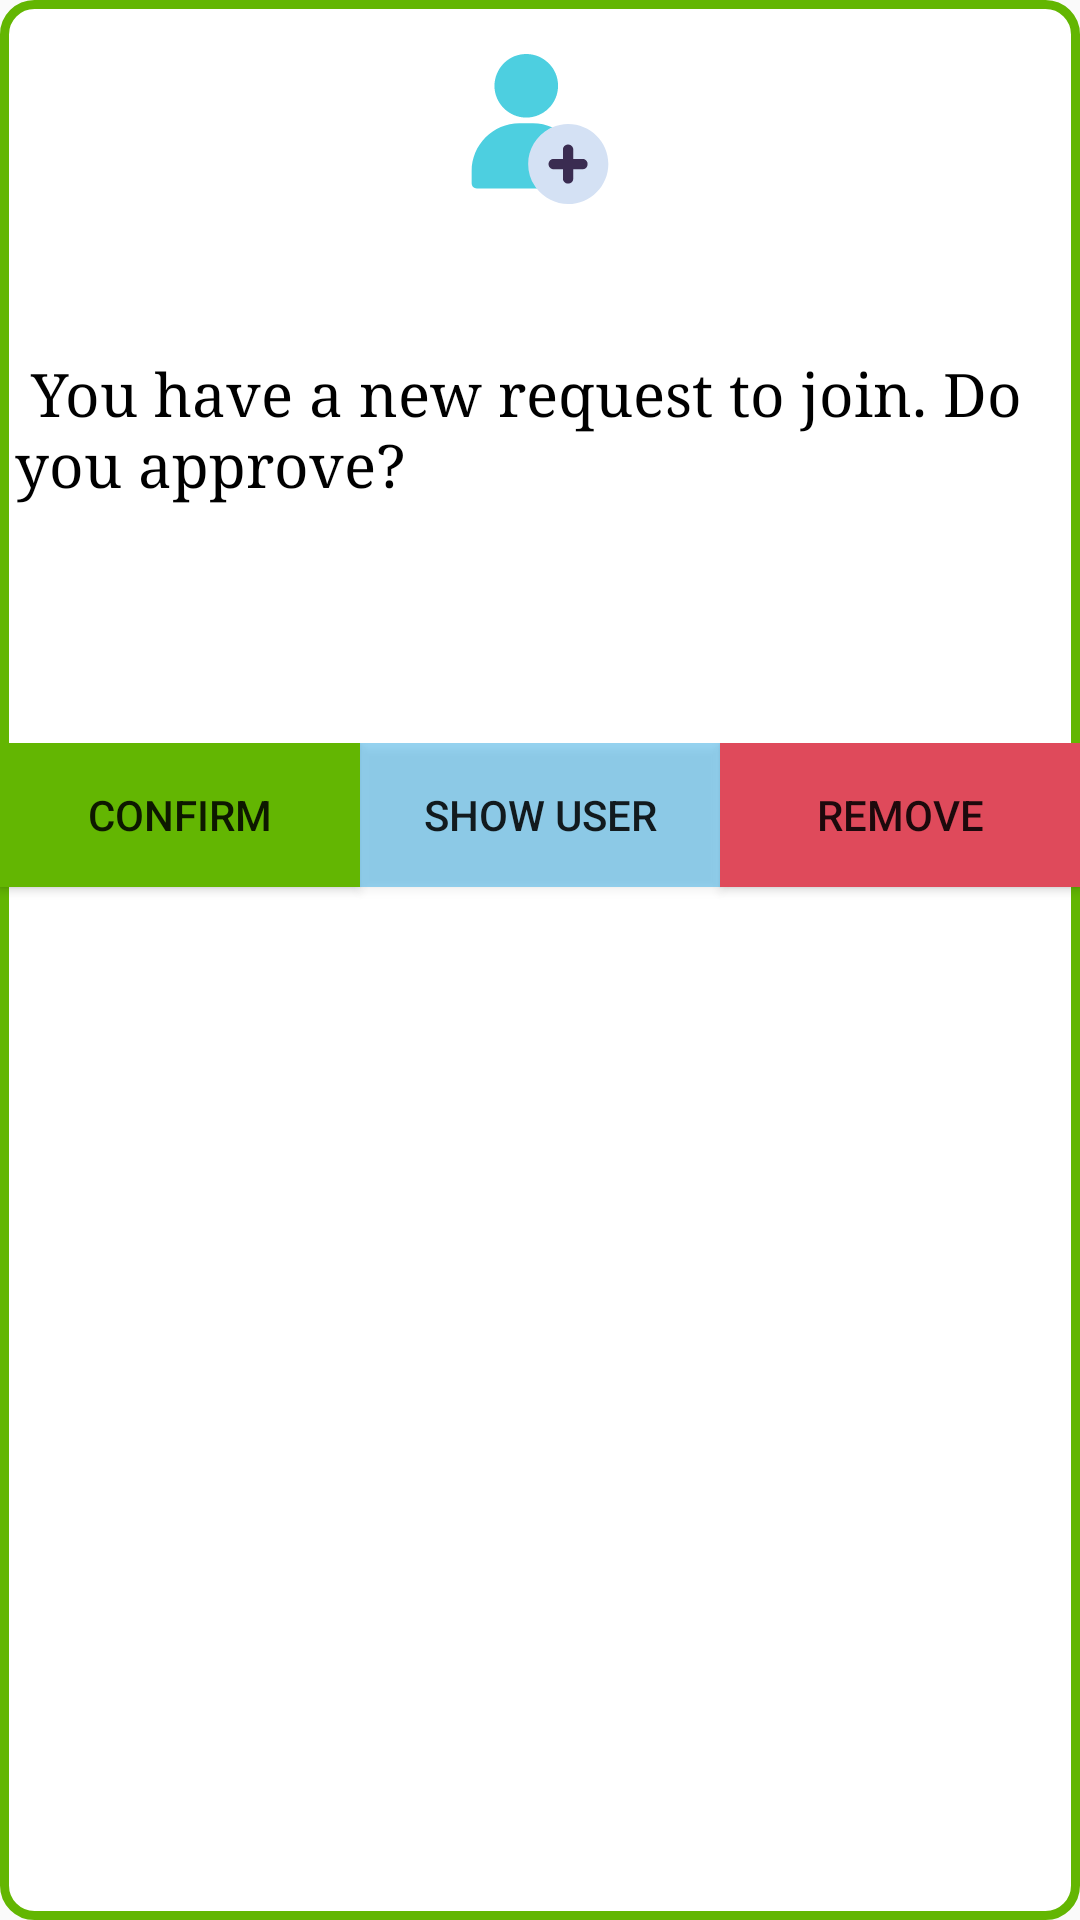

Screen size 1080x1920. Icon name, then its center in pixels as (x=x, y=y):
add user: (x=539, y=129)
